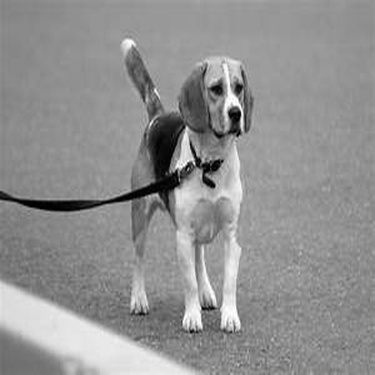dog: (96, 32, 268, 344)
